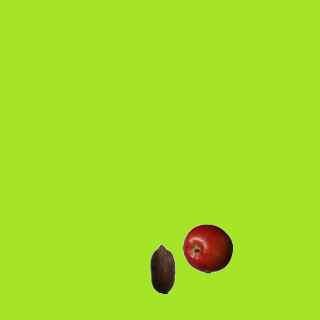Apple Braeburn: (182, 223, 232, 273)
Nut Pecan: (137, 243, 187, 293)
